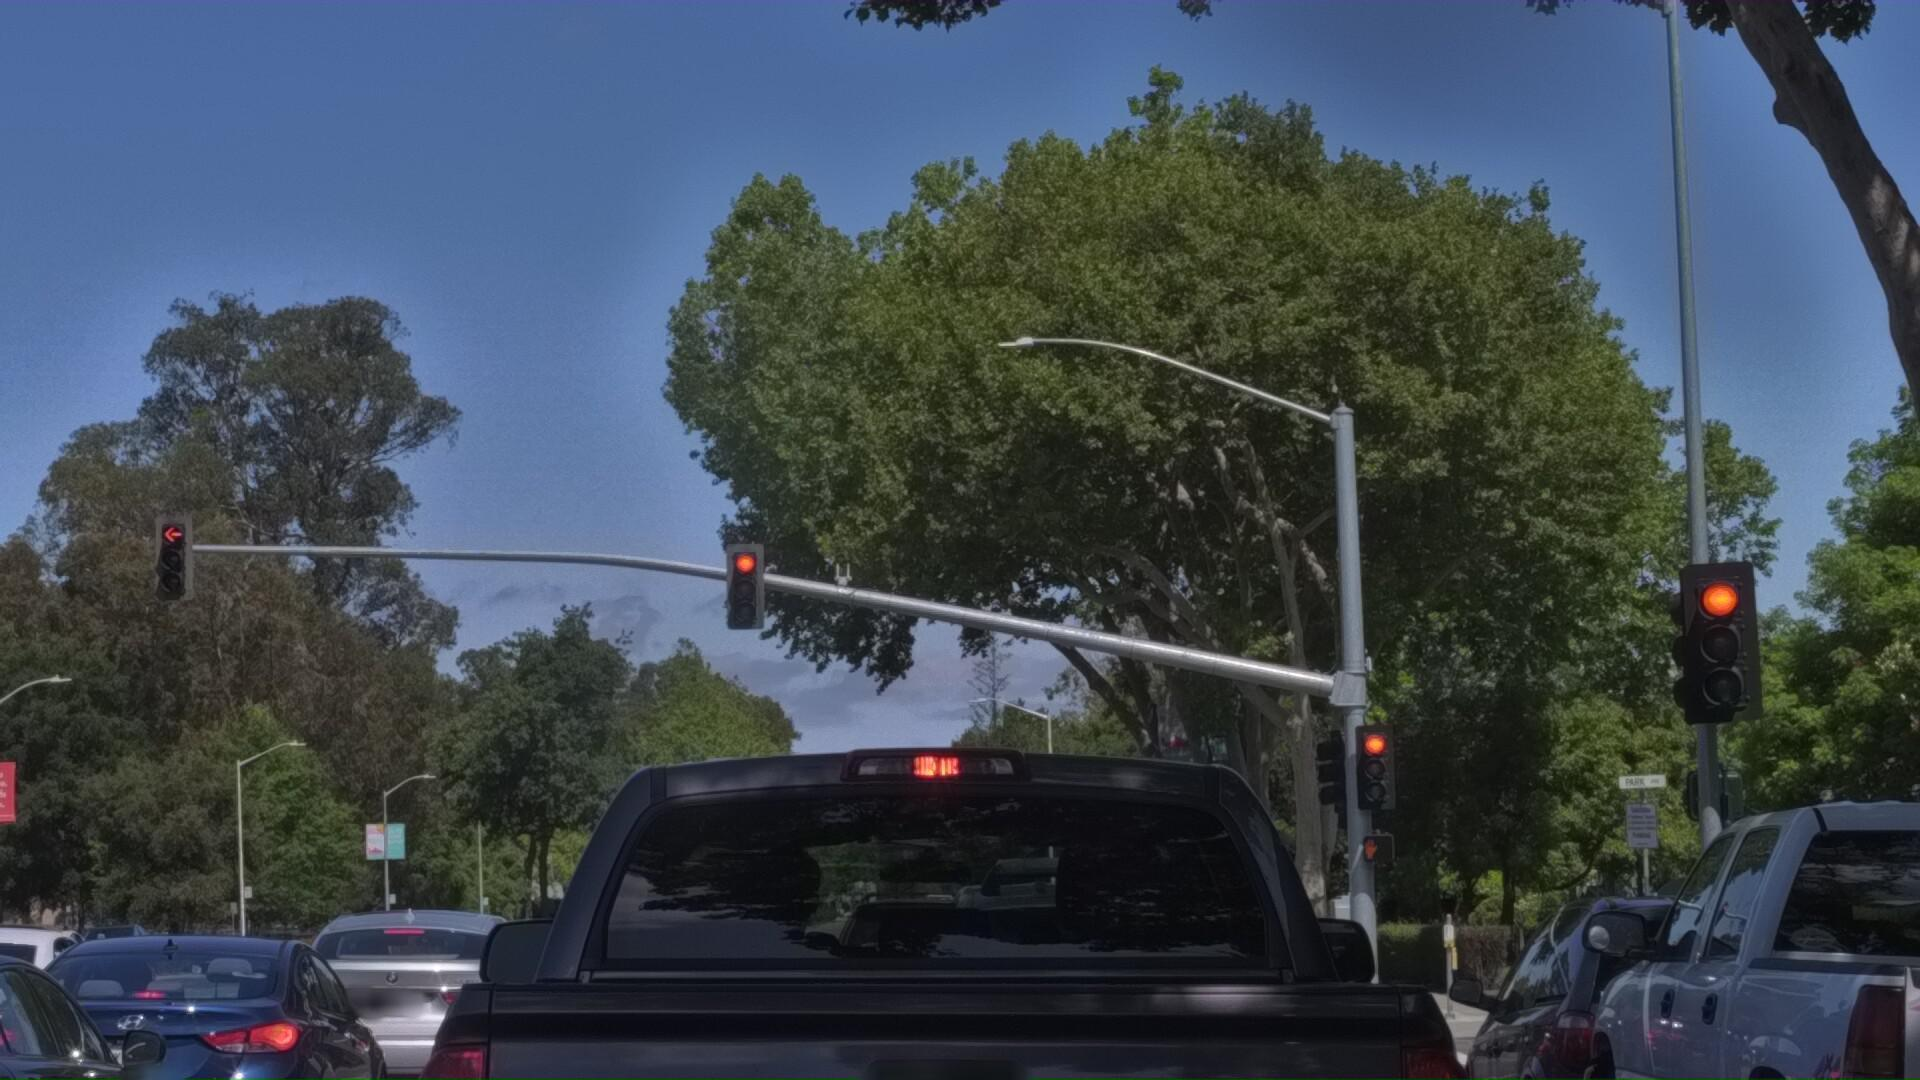car: (327, 497, 1642, 1080), (1503, 760, 1920, 1080), (884, 866, 1385, 1080), (1402, 885, 1920, 1080), (0, 949, 419, 1080), (277, 936, 589, 1080), (0, 949, 249, 1080), (0, 935, 145, 1080)
truck: (0, 839, 3, 1046)
